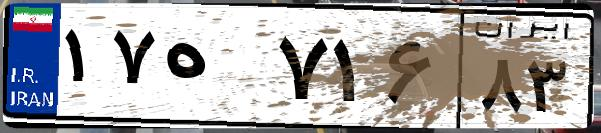1: (330, 28, 385, 110), (57, 26, 110, 100)
3: (525, 38, 570, 115)
6: (385, 28, 445, 110)
7: (270, 28, 330, 110), (110, 28, 158, 98)
8: (475, 38, 525, 113)
ه: (158, 20, 270, 120)
